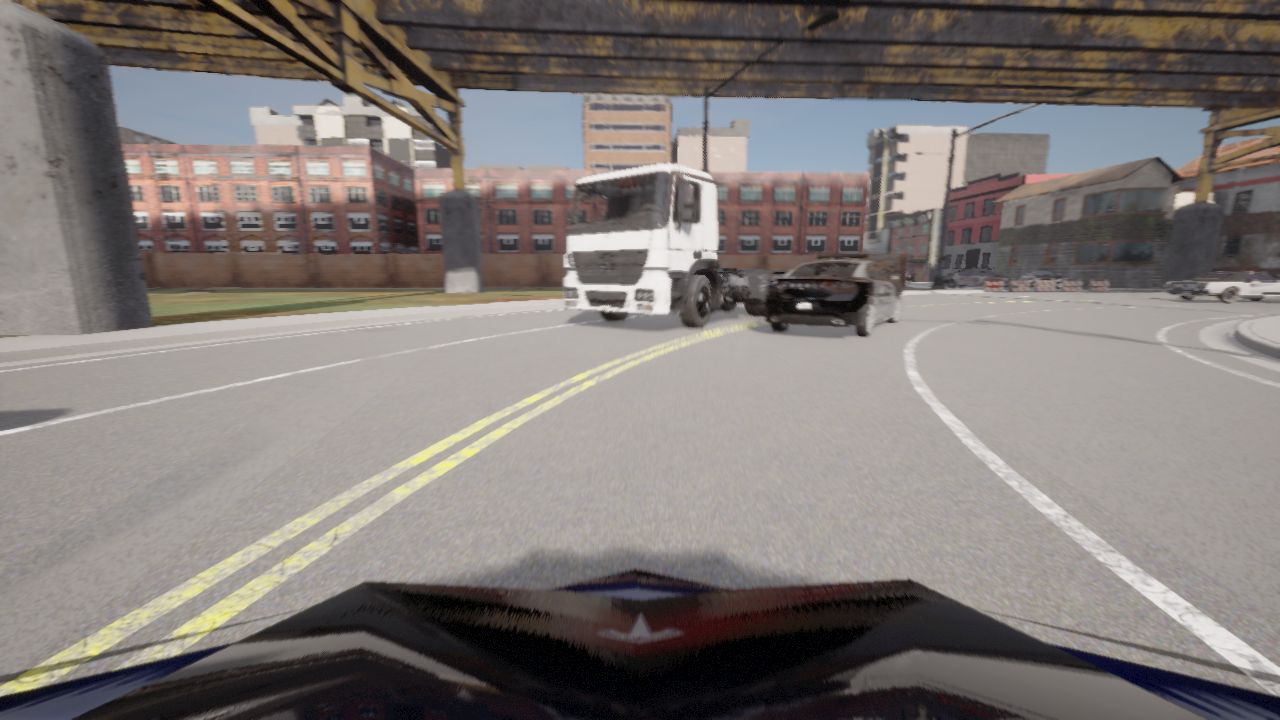cyclist: (0, 569, 1279, 719), (564, 164, 791, 327), (765, 253, 902, 337), (1165, 272, 1279, 302), (943, 269, 1012, 288), (867, 256, 902, 292), (1018, 268, 1062, 290), (905, 273, 915, 283), (1274, 275, 1279, 280), (1058, 273, 1059, 274)
